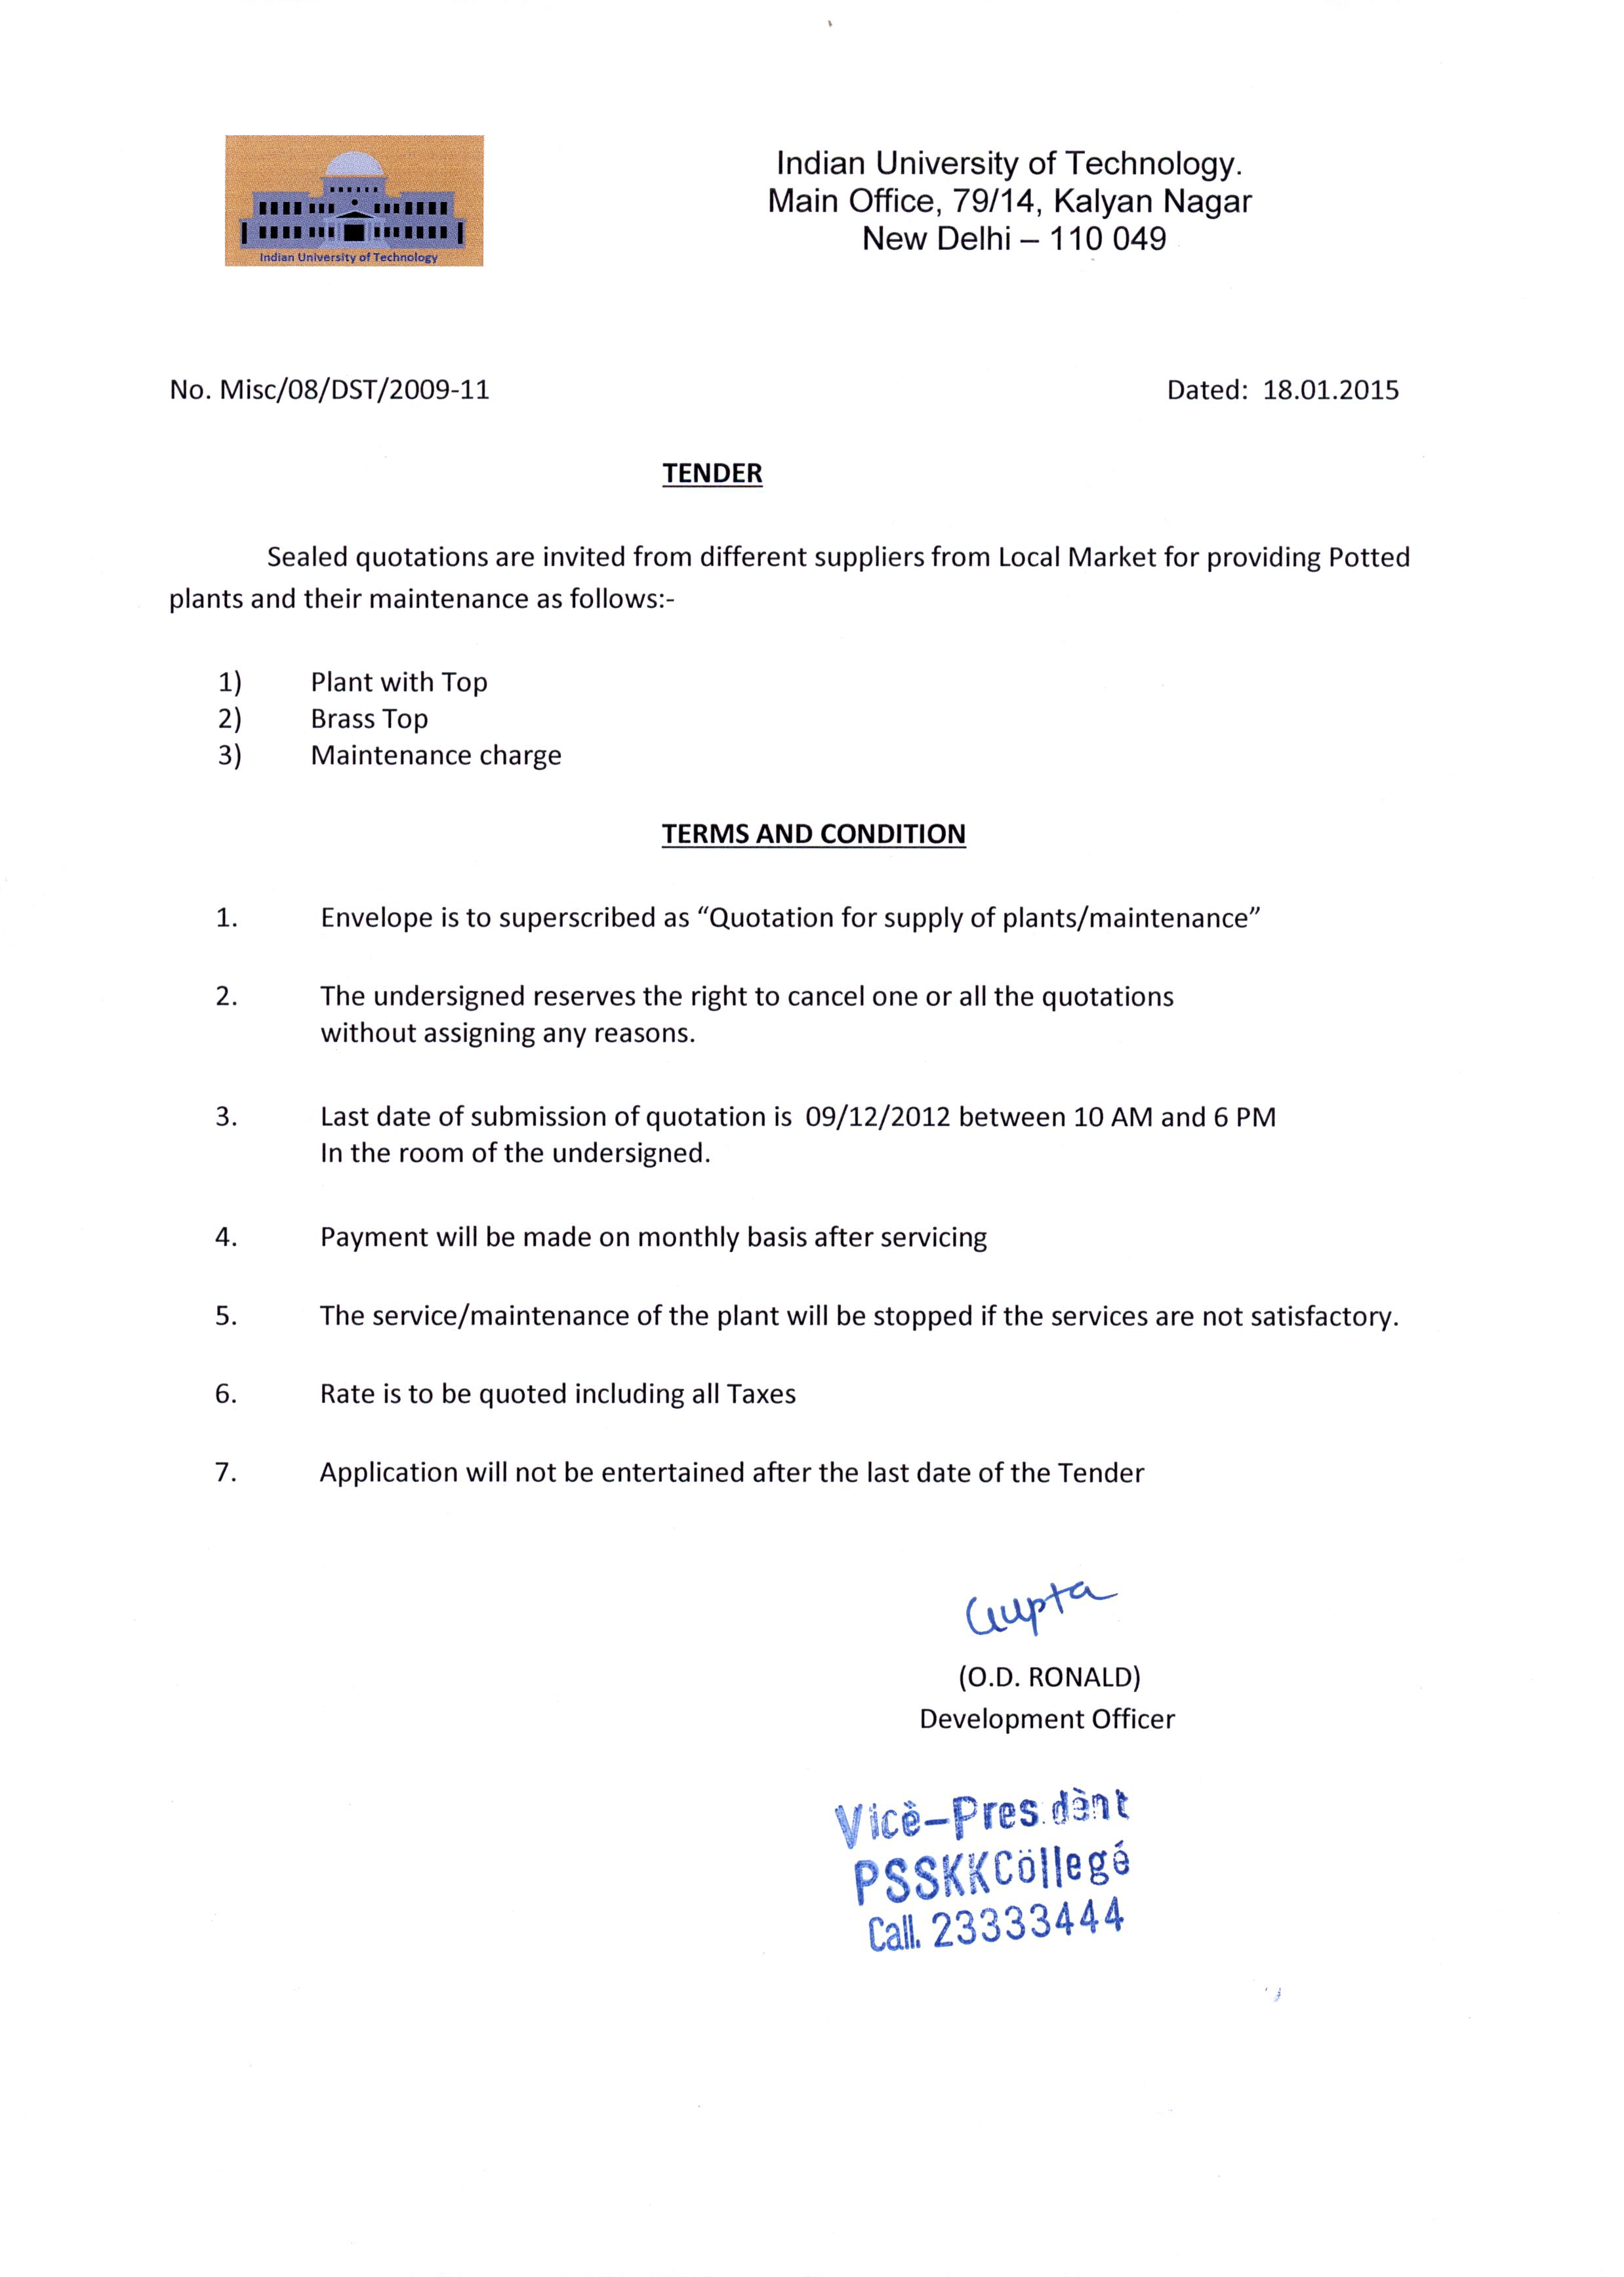Signature: (954, 1571, 1128, 1650)
